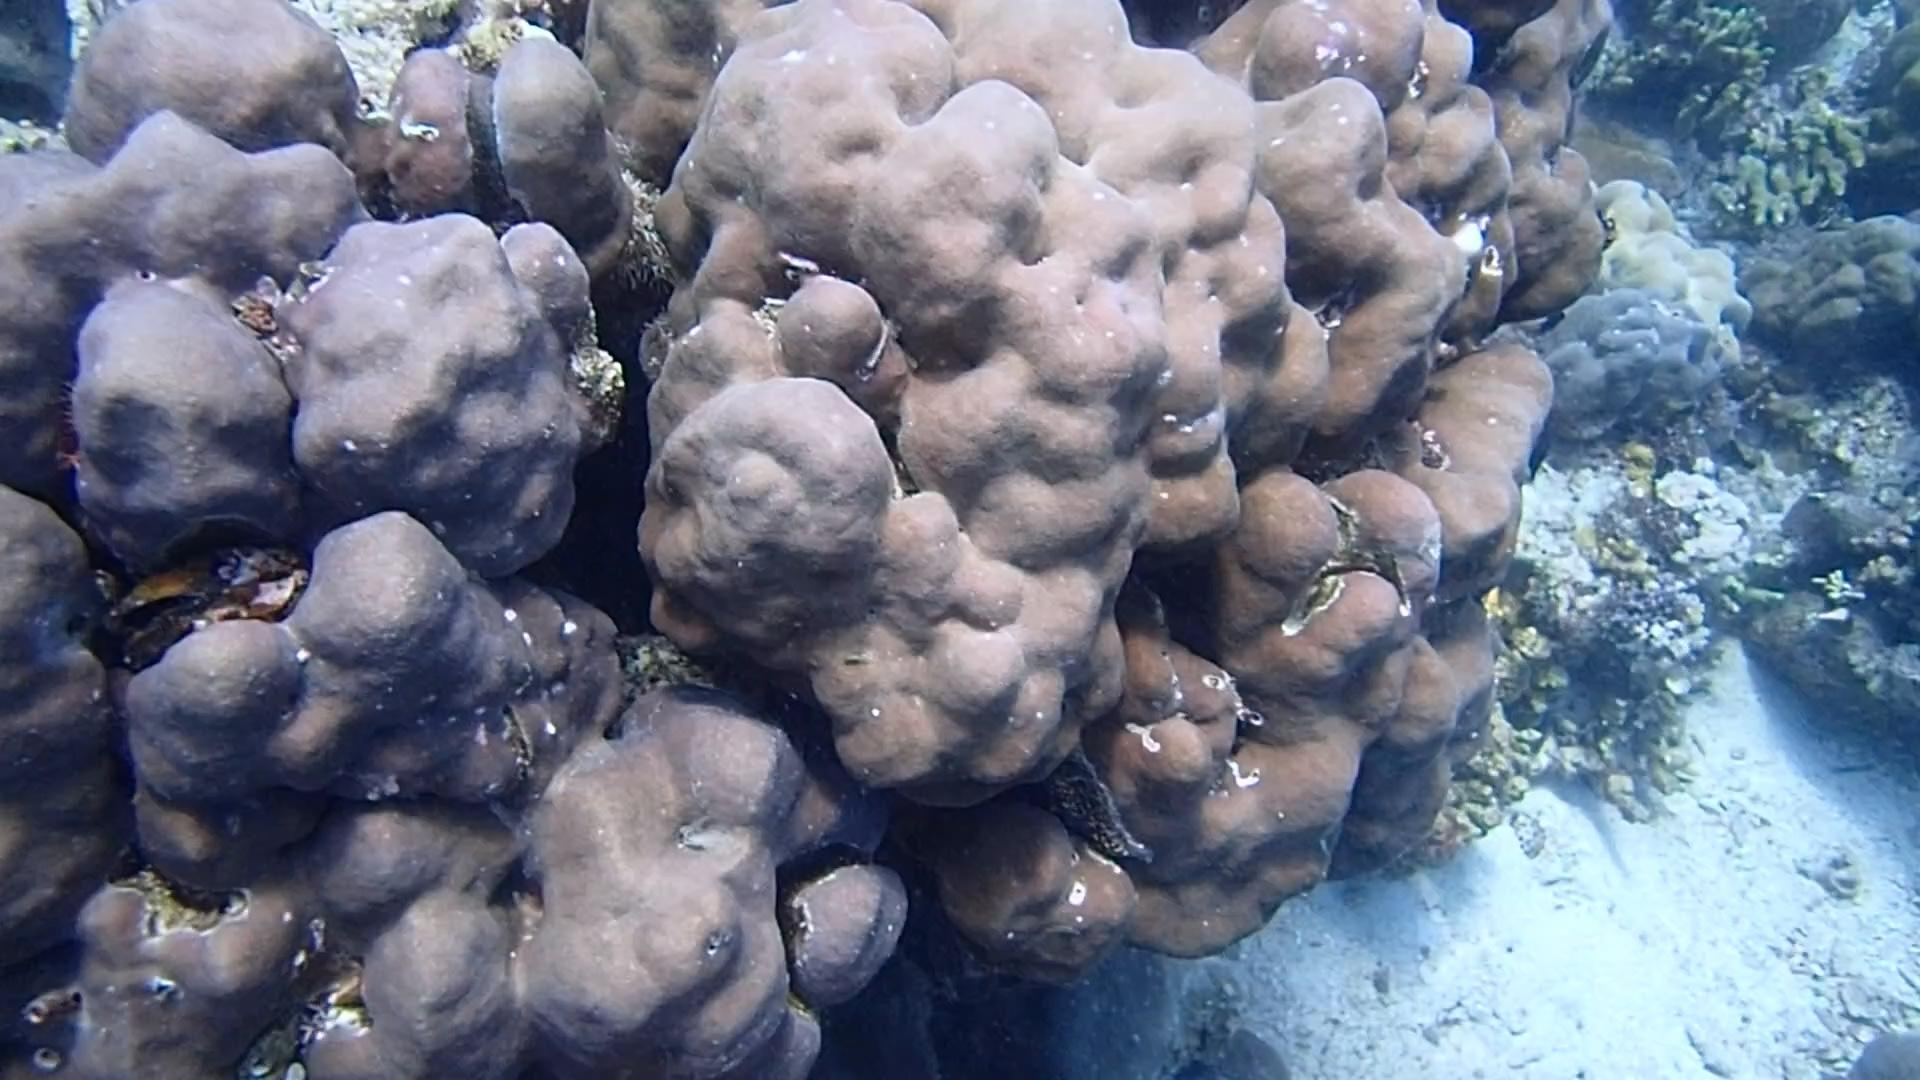Dark Fish: (1534, 302, 1571, 338)
